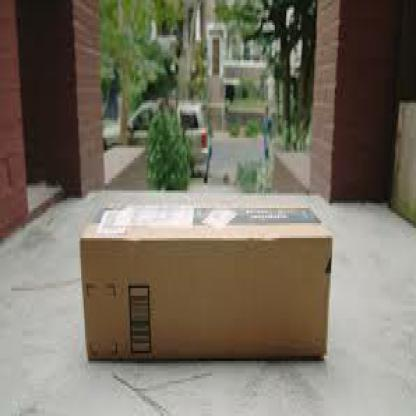package: (81, 205, 333, 363)
